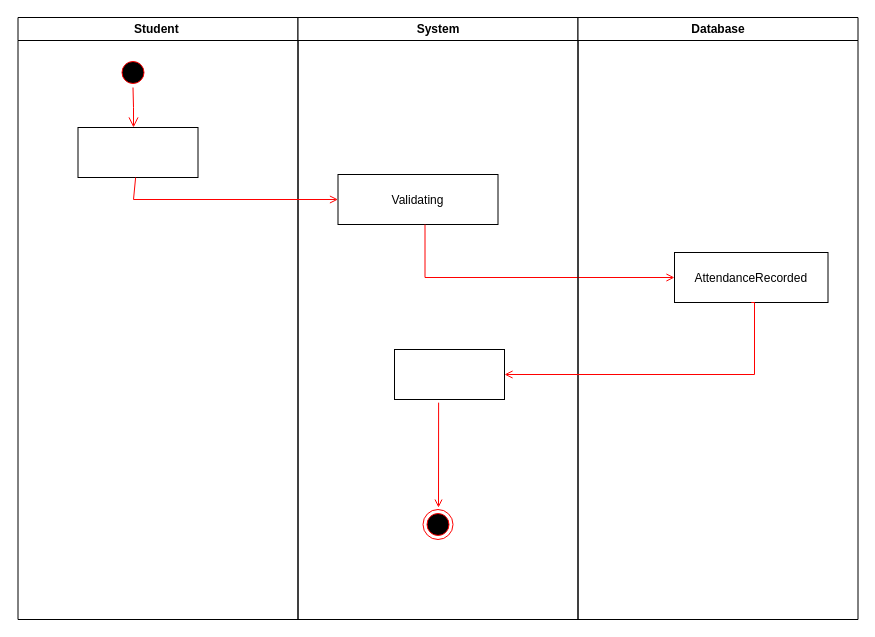
Image size: 875x637. Some labels were removed from this diagram. Here are the shapes that lost their labels. From the top down, the box of each, then its label:
(77, 126, 198, 178): FingerPlaced
(394, 348, 504, 400): NotificationSent
